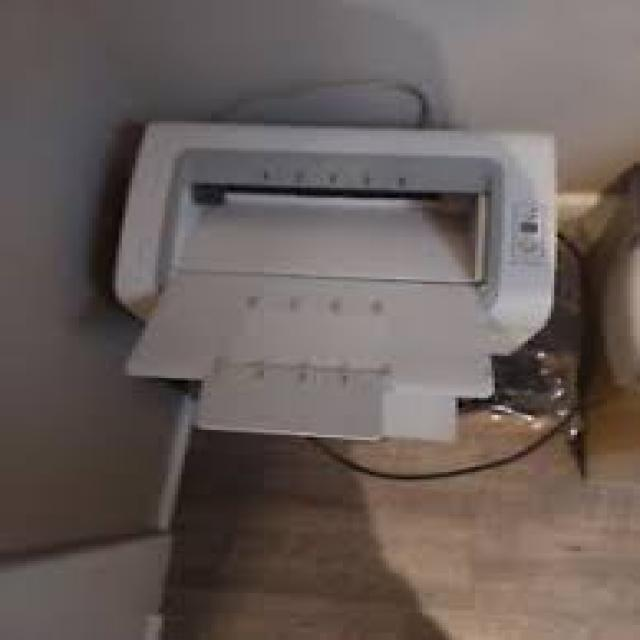printer: (125, 116, 562, 449)
